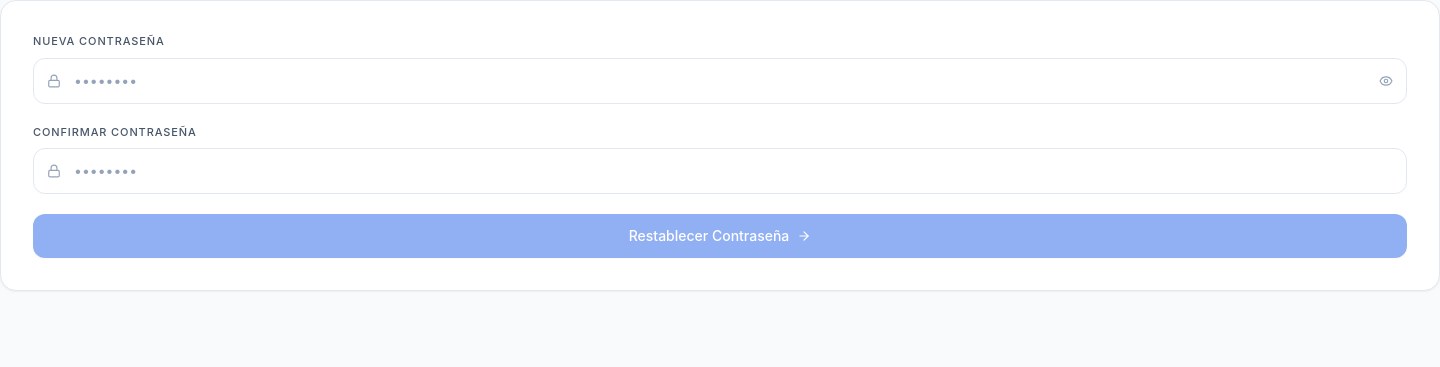
it: ResetPassword › should show error when passwords do not match
Type "password123" into the password field with placeholder "••••••••". click: (720, 80)
box: [33, 58, 1407, 104]
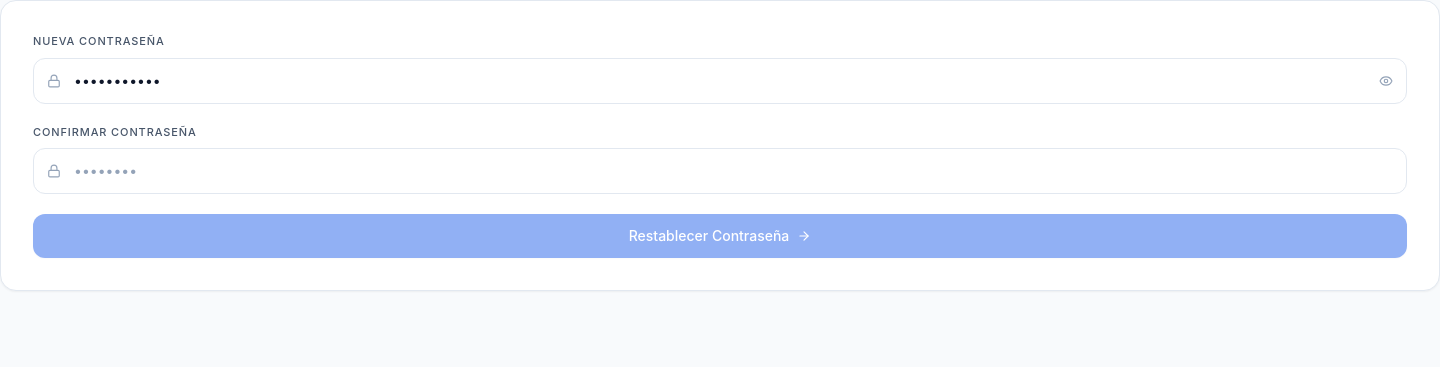
Type "different456" into the password field with placeholder "••••••••". click: (720, 171)
box: [33, 148, 1407, 194]
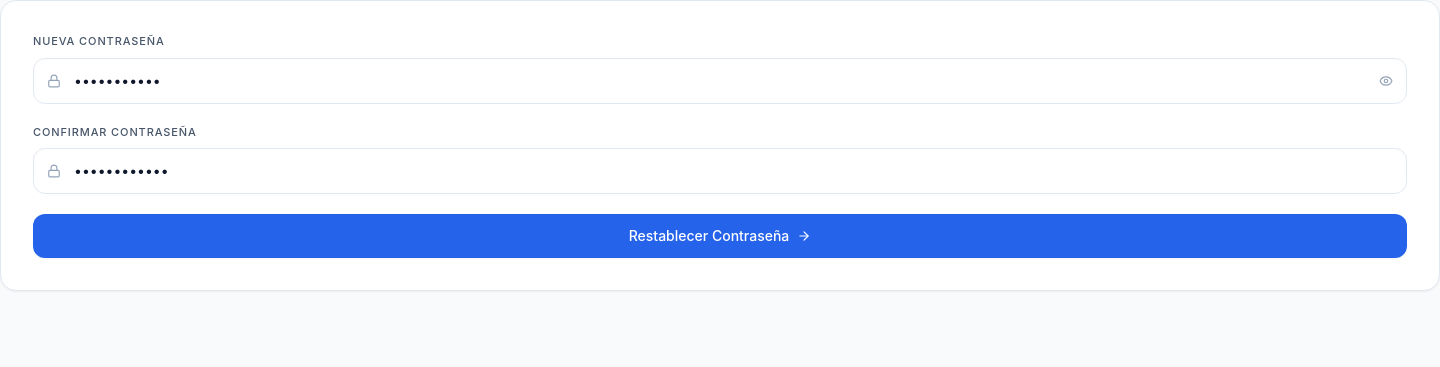
Click the button "Restablecer Contraseña". click: (720, 236)
box: [33, 214, 1407, 258]
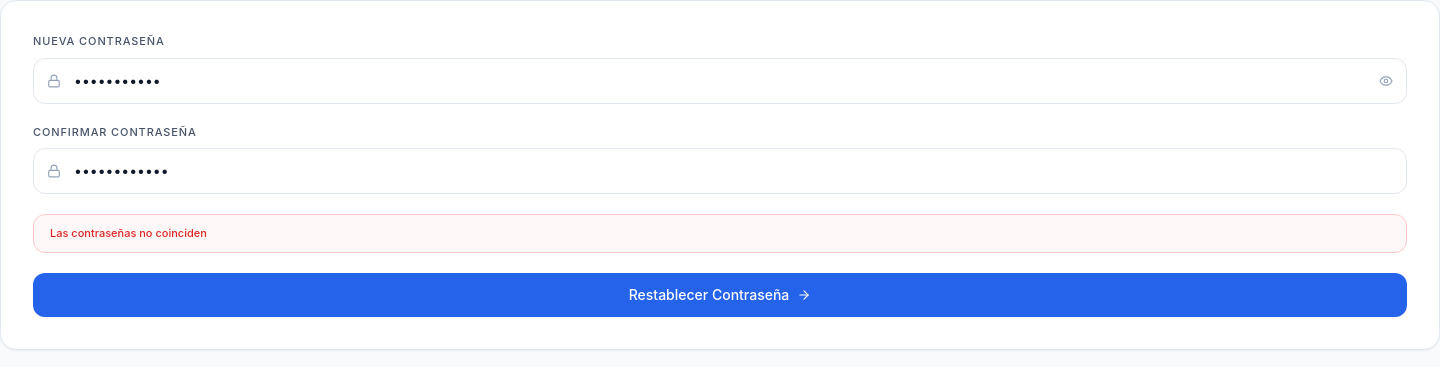
Result: the text "Las contraseñas no coinciden" is shown at [33, 214, 1407, 252]
